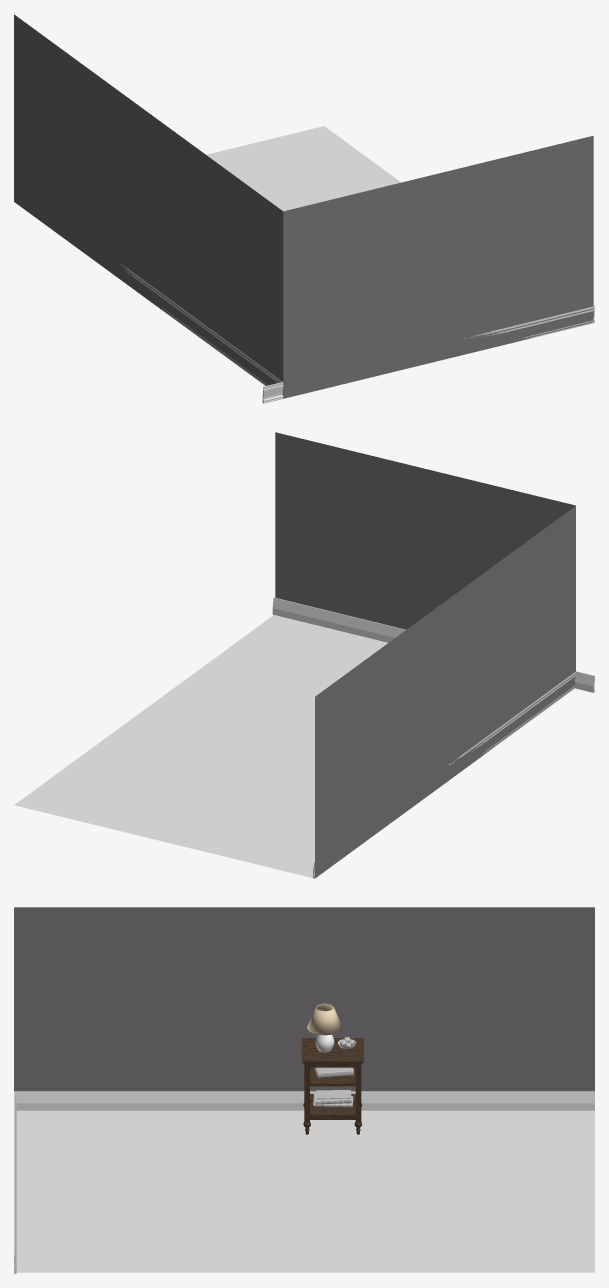
Rendered from Nightstand1.fbx.
The picture shows the model from 3 angles, top to bottom: view 1: azimuth 30°, elevation 25°; view 2: azimuth 150°, elevation 25°; view 3: azimuth 270°, elevation 25°; orthographic projection. The views are drawn at different scales.
Parts seen in each view (by area): view 1: Cube, Body10.001, Body10; view 2: Cube, Body10.001, Body10; view 3: Cube, Body10, Body18, Lampshade, Body23, Body24, Body10.001.
Boxes of the visible parts, left/top/right/bottom form: Cube: left=14, top=14, right=593, bottom=398; Body10.001: left=262, top=306, right=594, bottom=403; Body10: left=19, top=205, right=283, bottom=398; Cube: left=14, top=432, right=575, bottom=878; Body10.001: left=272, top=597, right=594, bottom=692; Body10: left=313, top=671, right=575, bottom=878; Cube: left=14, top=907, right=594, bottom=1272; Body10: left=14, top=1091, right=594, bottom=1110; Body18: left=301, top=1038, right=363, bottom=1063; Lampshade: left=307, top=1003, right=342, bottom=1035; Body23: left=310, top=1094, right=355, bottom=1119; Body24: left=310, top=1067, right=355, bottom=1086; Body10.001: left=14, top=1091, right=16, bottom=1273.
Bounding box in the file's own units: 370 × 200 × 521.
